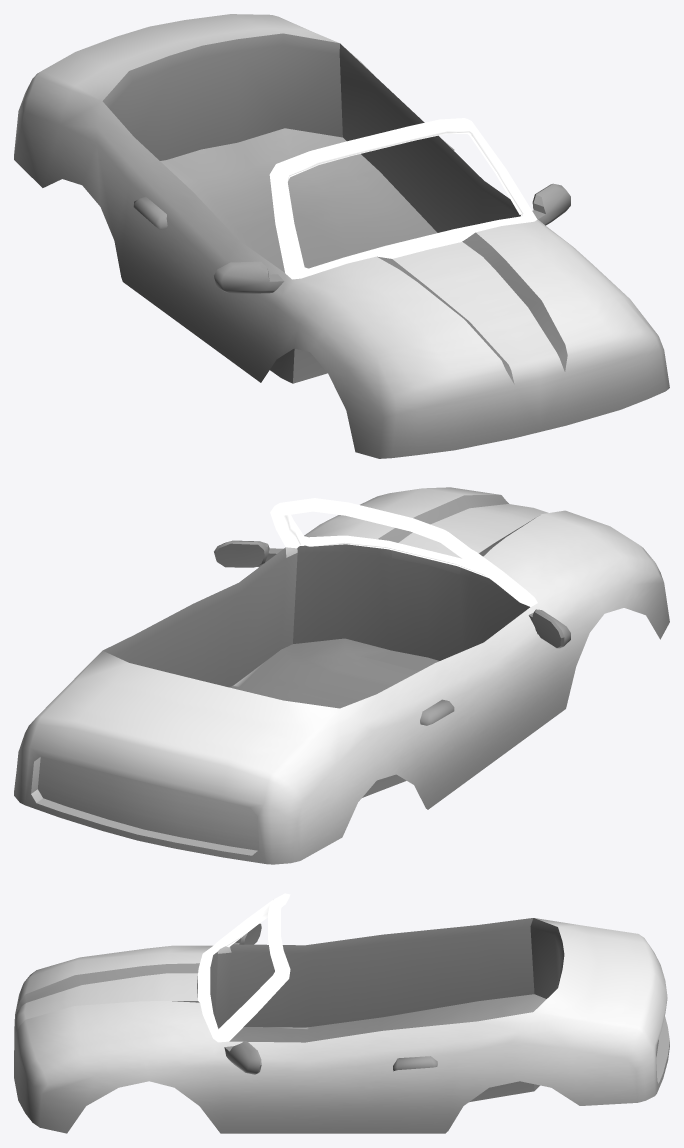
File: car_open_color.fbx
3 views of the same model, one above another, from view 1: azimuth 30°, elevation 25°; view 2: azimuth 150°, elevation 25°; view 3: azimuth 270°, elevation 25° (orthographic). The views are drawn at different scales.
Parts seen in each view (by area): view 1: car_open_color; view 2: car_open_color; view 3: car_open_color.
Boxes of the visible parts, x1=… form: car_open_color: x1=14, y1=14, x2=669, y2=458; car_open_color: x1=14, y1=487, x2=669, y2=864; car_open_color: x1=14, y1=893, x2=669, y2=1133.
Bounding box in the file's own units: 60.41 × 31.54 × 120.
